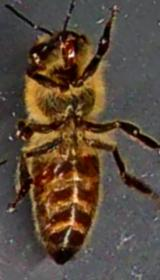varroa_mite: (19, 154, 61, 192)
